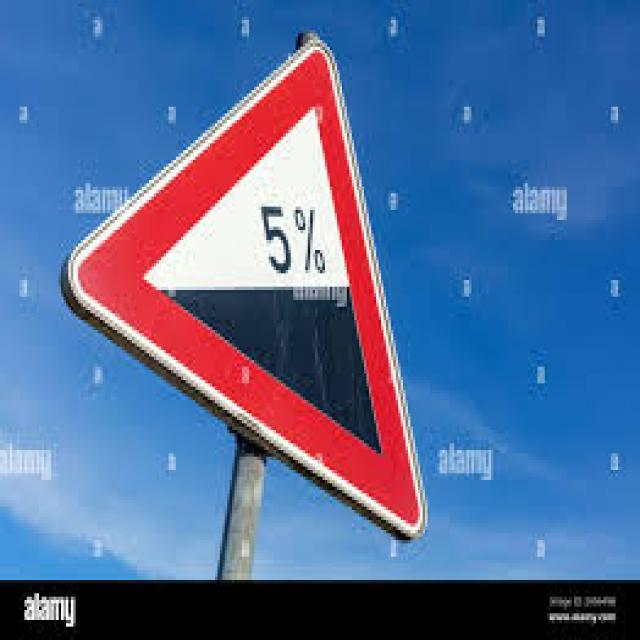steep ascent: (64, 34, 422, 538)
